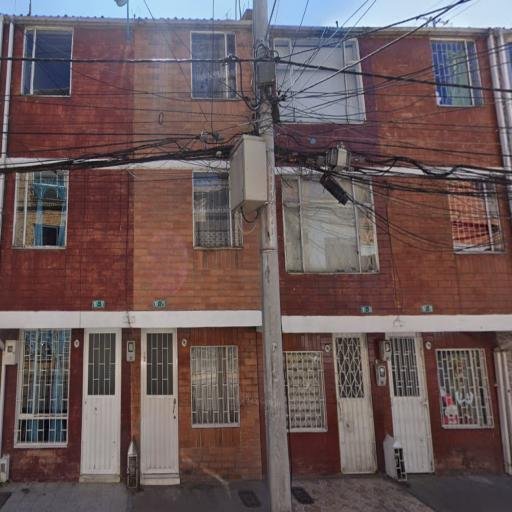Casa: (267, 17, 512, 485), (0, 13, 137, 487), (132, 18, 267, 487)
postes: (224, 0, 295, 511)
